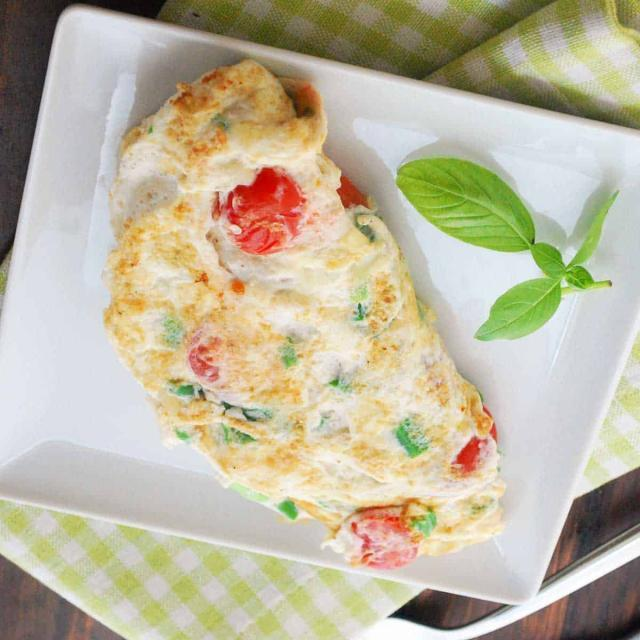telur_ayam_dadar: (101, 57, 506, 570)
